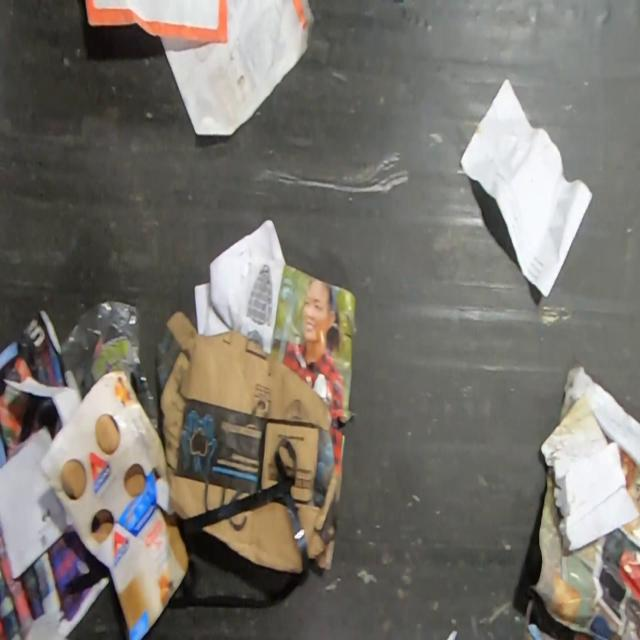cardboard: (154, 307, 340, 572), (39, 368, 190, 640), (202, 501, 302, 573)
soft_plastic: (168, 436, 310, 609), (58, 297, 159, 430)
